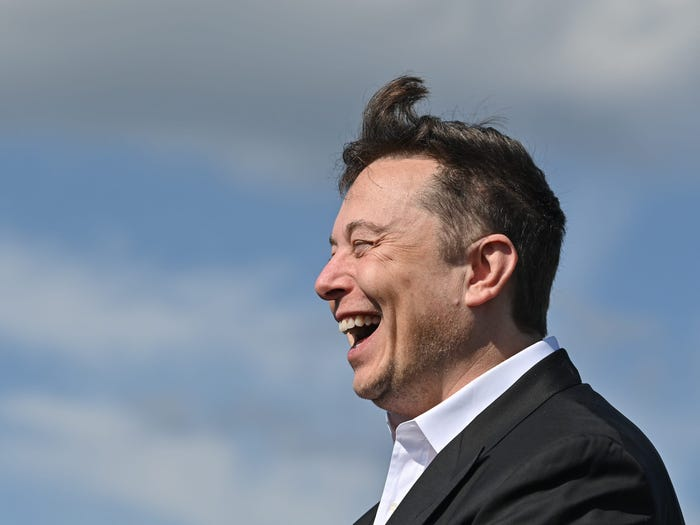person: (308, 65, 679, 525)
